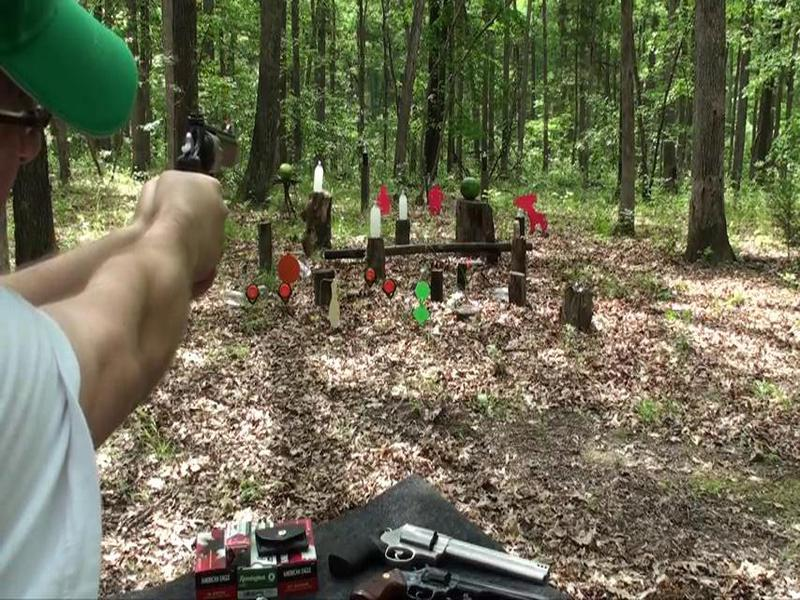Revolver: (168, 107, 256, 204)
